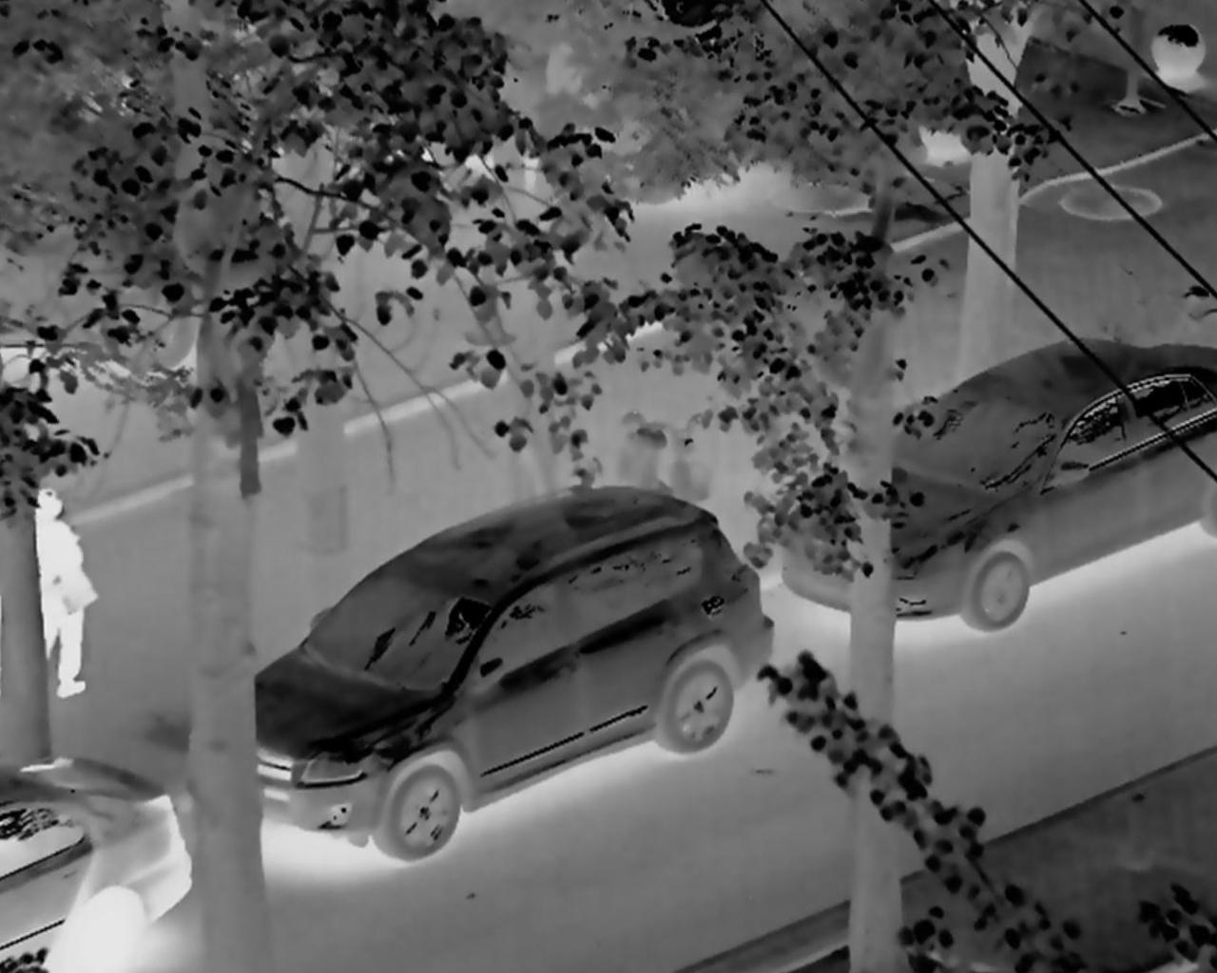person: (25, 483, 117, 711)
